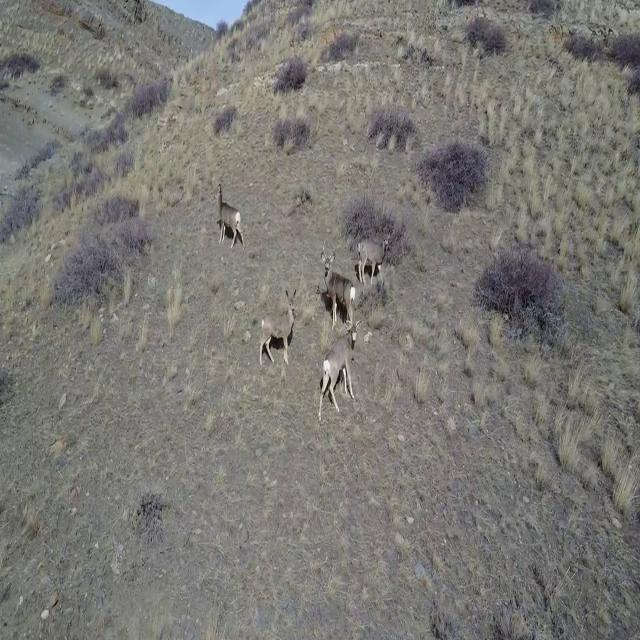Deer: (256, 290, 302, 368), (318, 327, 356, 416), (321, 244, 355, 337), (356, 224, 392, 289), (215, 183, 244, 253)
